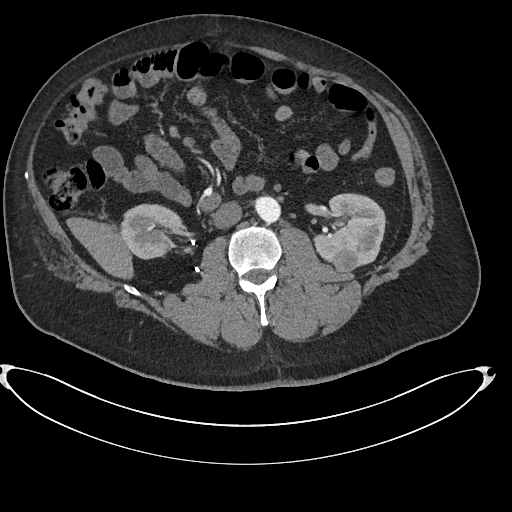Lesion: (332, 247, 361, 275)
